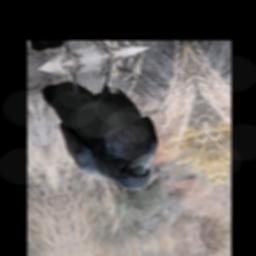Crow: (35, 50, 170, 204)
